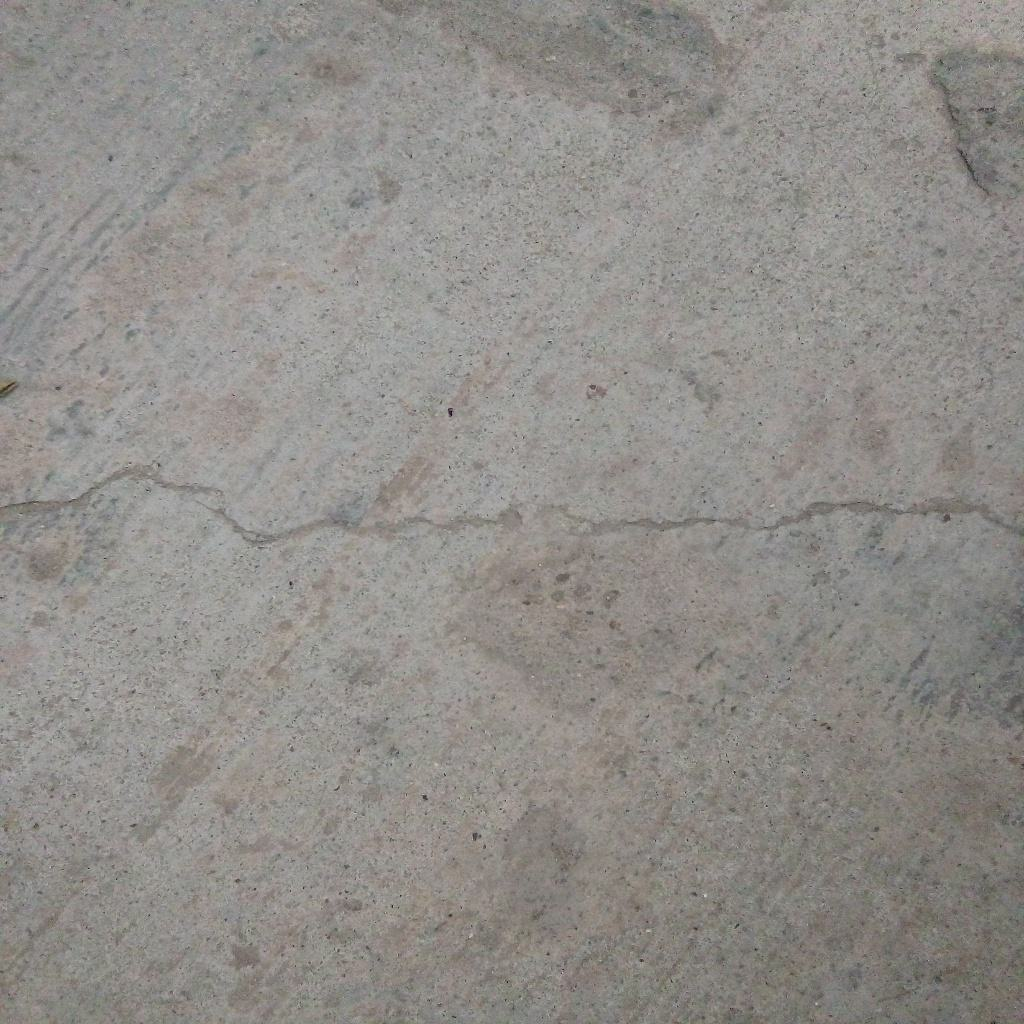Crack: (1, 461, 1024, 549)
Spalling: (929, 49, 1024, 198)
